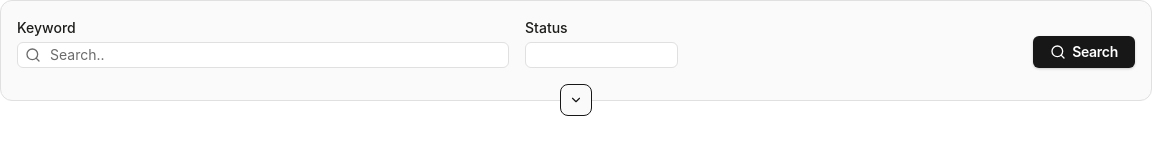
Test: StandardFilterBar › toggles visible fields when collapsible
The image size is (1152, 160).
Check: the text "Keyword" is shown, box 17,19 -> 76,36
Check: the text "Status" is shown, box 525,19 -> 568,36
Click the button named "상세".
click(576, 100)  # box 560,84 -> 592,116
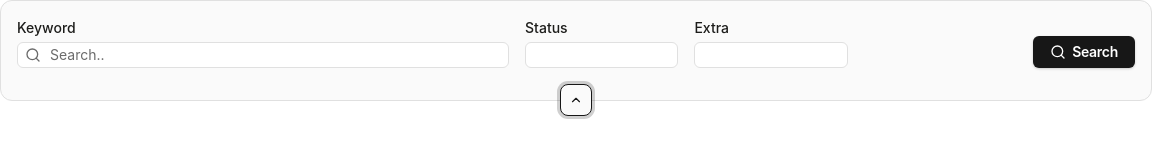
Check: the text "Extra" is shown, box 694,19 -> 729,36
Click the button named "간단히".
click(576, 100)  # box 560,84 -> 592,116
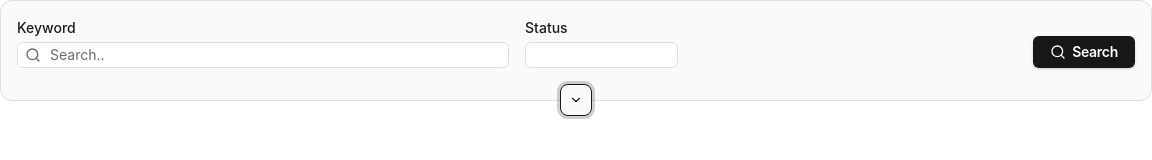
Check: the text "Extra" is gone
